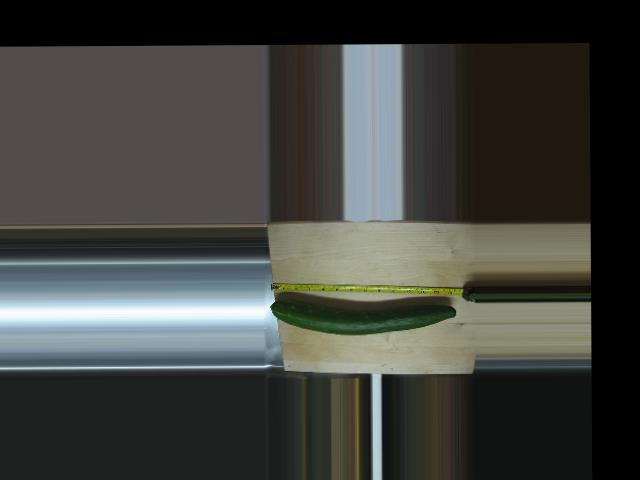cucumber: (270, 297, 456, 335)
